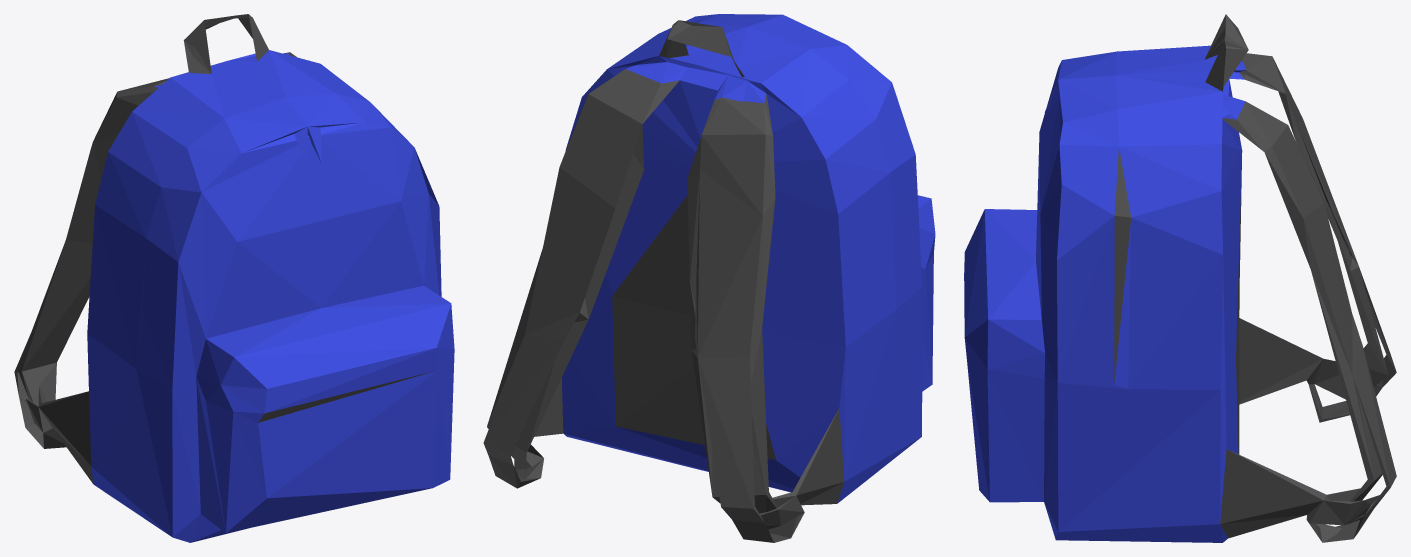
The model's file is Mochila.fbx.
3 renders of one model, left to right at view 1: azimuth 30°, elevation 25°; view 2: azimuth 150°, elevation 25°; view 3: azimuth 270°, elevation 25°, orthographic. The views are drawn at different scales.
Parts seen in each view (by area): view 1: Mochila; view 2: Mochila; view 3: Mochila.
Boxes of the visible parts, box(x1,y1,x2,y2) form: Mochila: box(14, 14, 454, 542); Mochila: box(483, 14, 935, 542); Mochila: box(964, 14, 1396, 542).
Size of the model in its own units: 775 by 1139 by 986.
